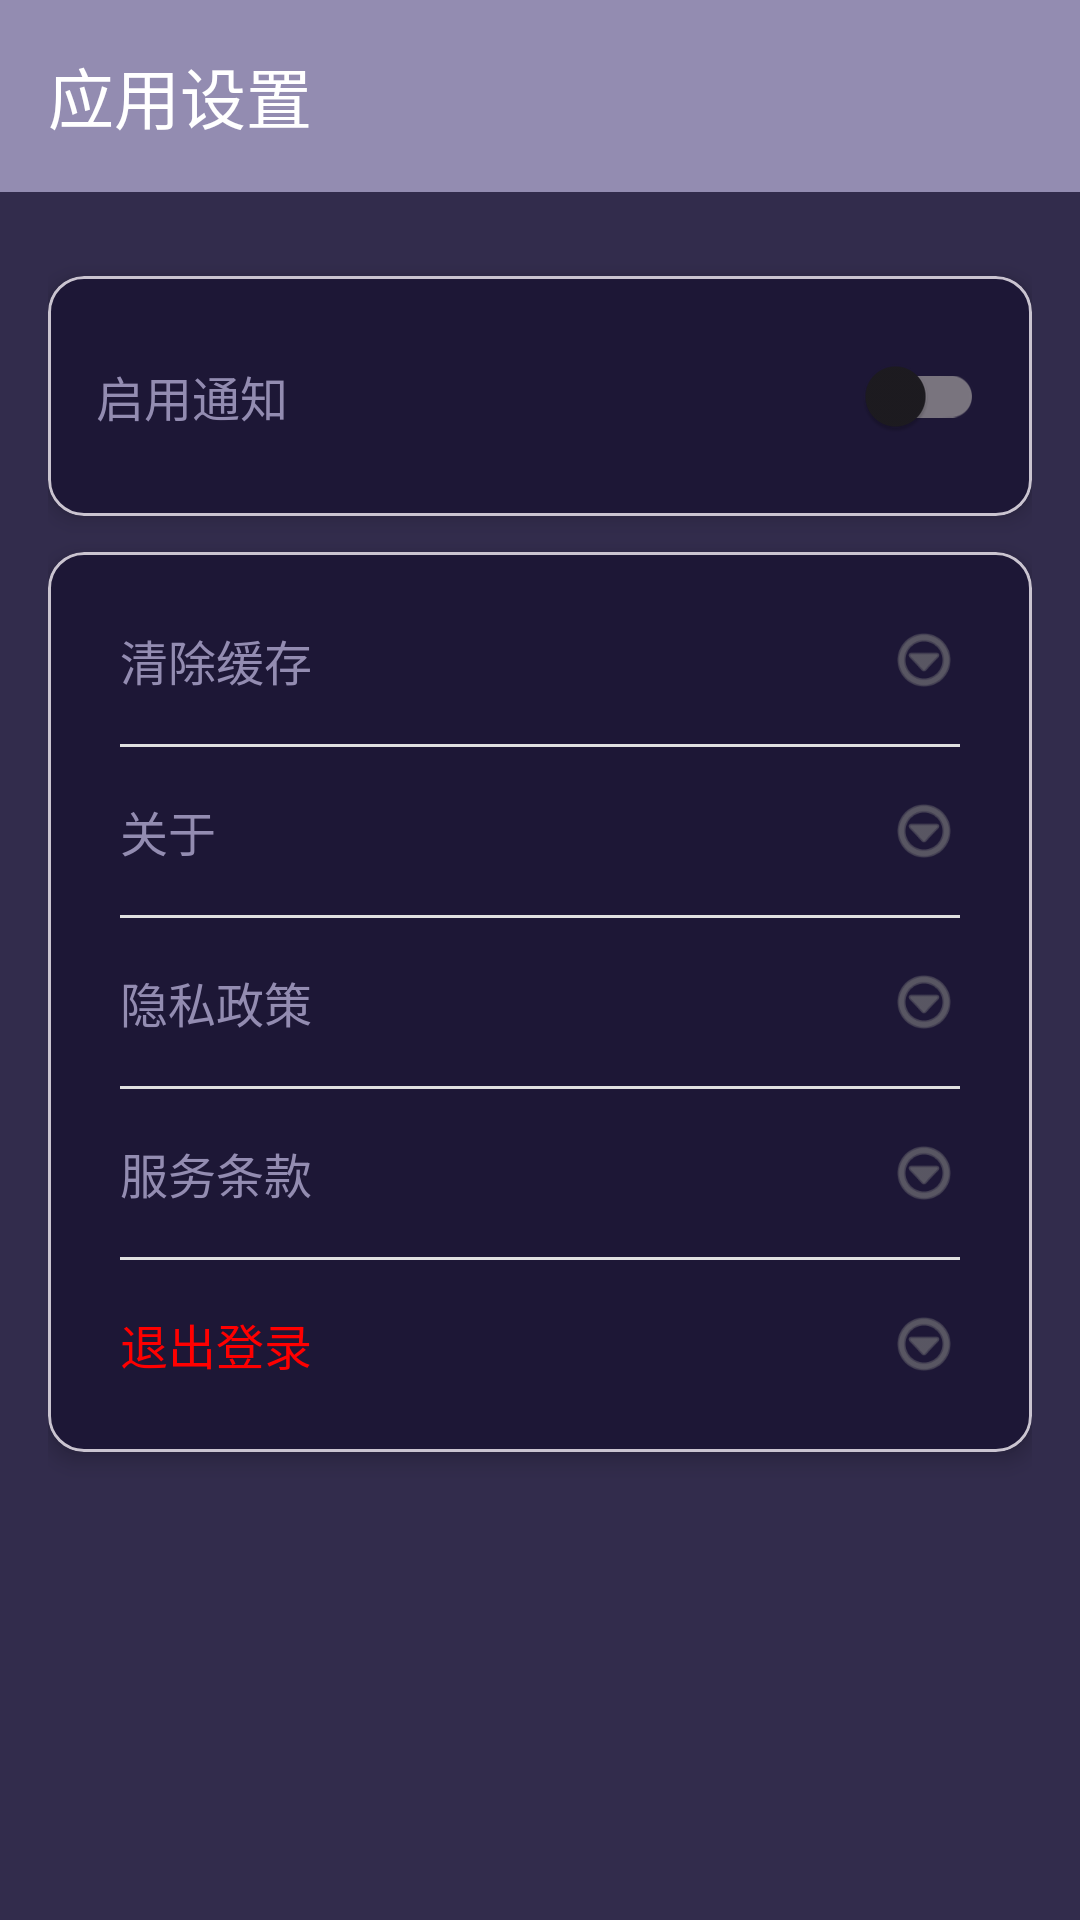

Icon bounding boxes for this 1080x1920 phone screenshot, format region(x1, y1, x2, y2):
more: region(898, 634, 950, 686), region(898, 805, 950, 857), region(898, 976, 950, 1028), region(898, 1147, 950, 1199), region(898, 1318, 950, 1370)
